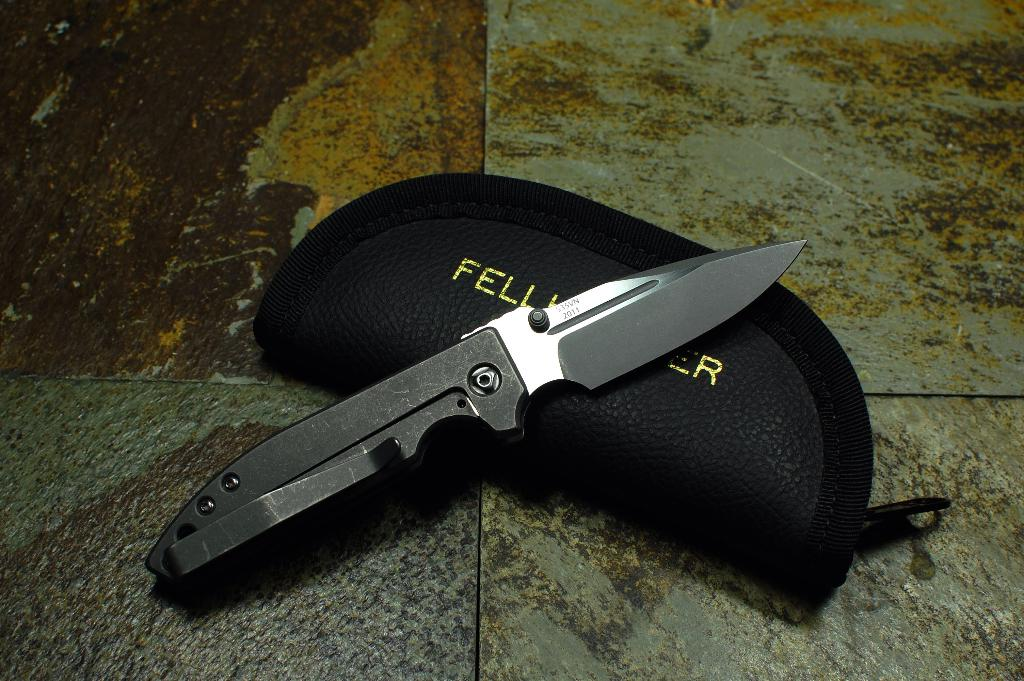knife: (145, 239, 807, 584)
